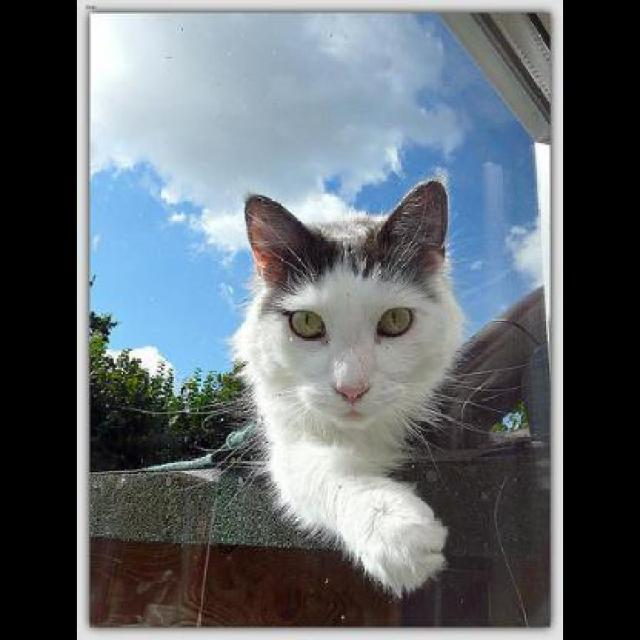unauthorized: (214, 177, 509, 598)
